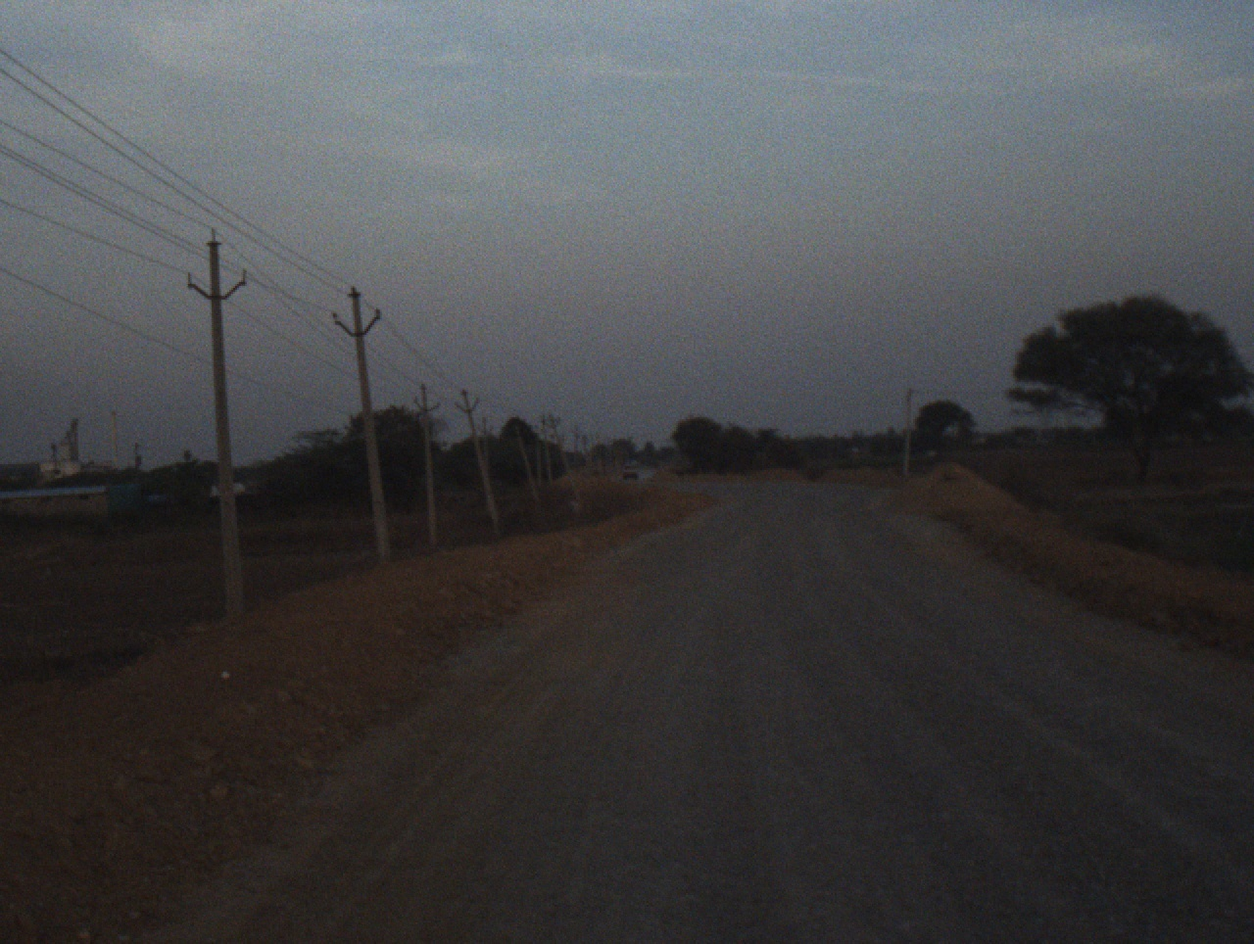car: (621, 459, 637, 474)
